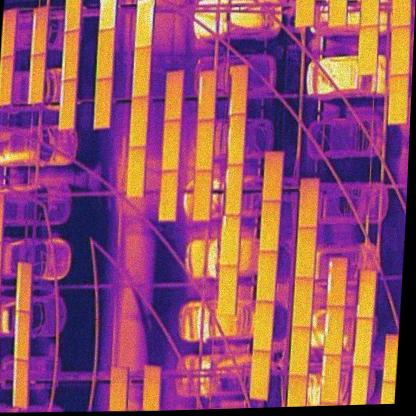Diode: (325, 257, 347, 306), (196, 69, 217, 120), (28, 8, 50, 56), (323, 306, 344, 356), (320, 353, 341, 402), (26, 53, 46, 104), (133, 0, 154, 48), (10, 359, 30, 409), (226, 113, 245, 164), (57, 80, 76, 131), (61, 27, 79, 80), (222, 166, 241, 216), (15, 262, 33, 313), (229, 66, 248, 114), (12, 310, 30, 360)
Hotspot: (219, 214, 240, 265)
Normal: (386, 75, 410, 125), (288, 327, 312, 375), (255, 250, 277, 302), (258, 201, 280, 253), (157, 169, 179, 221), (160, 119, 181, 173), (131, 46, 153, 97), (216, 263, 237, 316), (389, 24, 410, 77), (253, 299, 274, 351), (126, 146, 147, 198), (249, 348, 270, 400), (291, 277, 313, 326), (295, 227, 316, 277), (191, 170, 212, 220), (262, 151, 283, 201), (128, 97, 149, 147), (163, 70, 184, 120), (297, 180, 319, 227), (357, 29, 379, 75), (141, 364, 162, 411), (357, 268, 377, 317), (194, 119, 213, 170), (93, 78, 112, 129), (95, 26, 114, 77), (110, 365, 129, 411), (354, 318, 372, 366), (350, 367, 368, 405), (0, 290, 0, 342)
